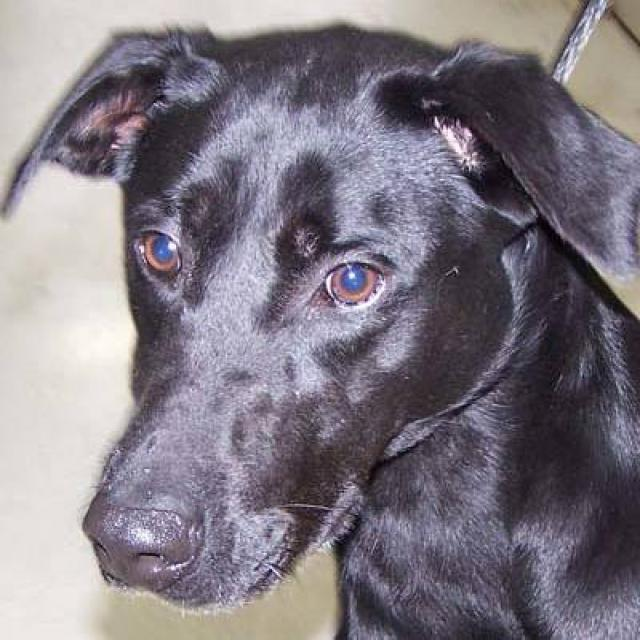dogs: (12, 24, 639, 640)
